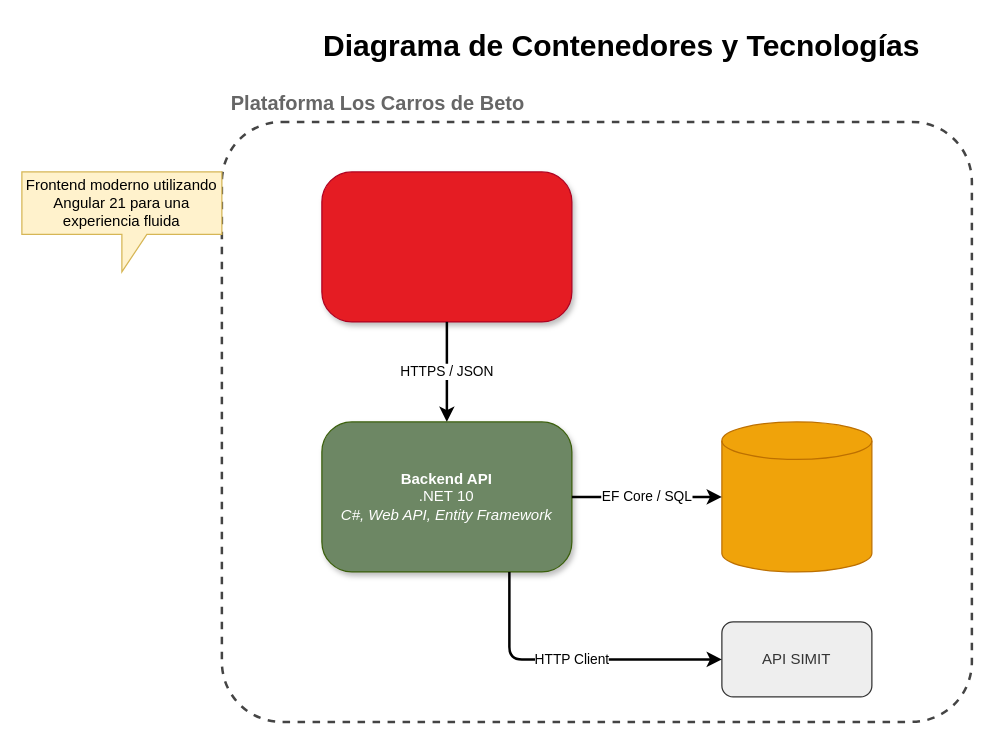
Some shapes in this 995 by 744 pixel diagram are drawn without their labels. The centre of each missing label's shape, as x and y in pixels:
"Base de Datos SQL Server Transaccional, Relacional" belongs at pixel 796 496.
"Single Page Application Angular 21 Web, Responsive, TypeScript" belongs at pixel 447 248.
